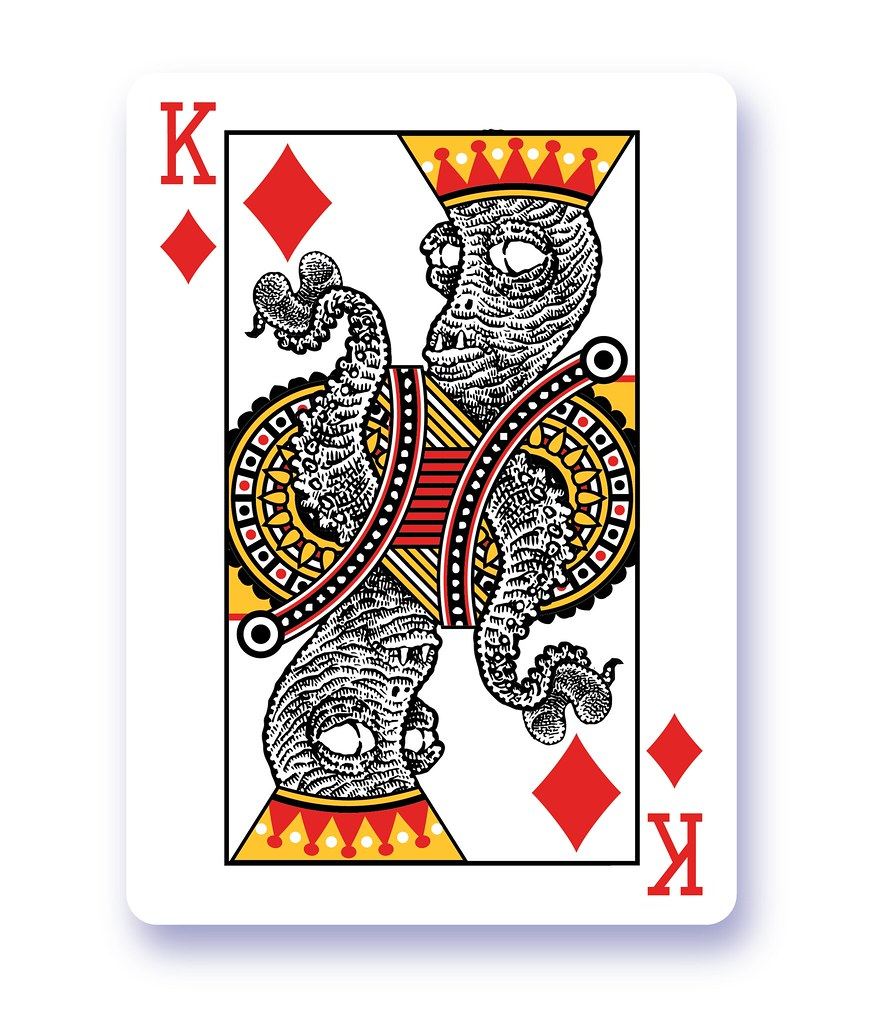king of diamonds: (122, 79, 735, 931)
